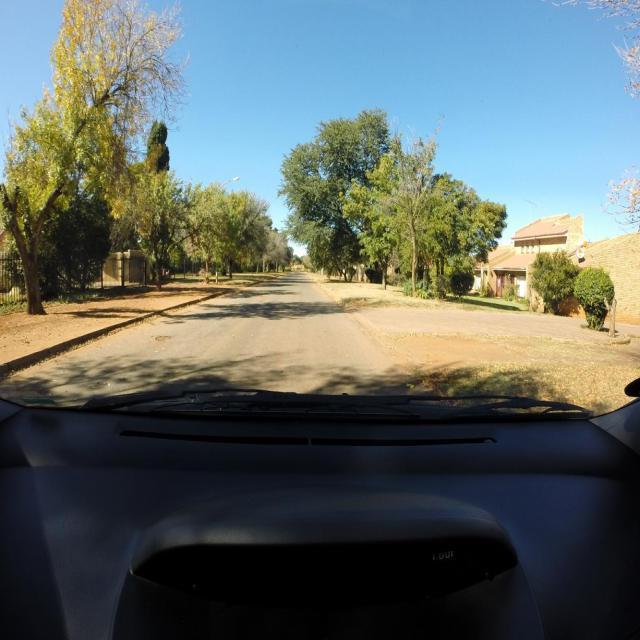pothole: (155, 336, 173, 341), (260, 294, 270, 297)
